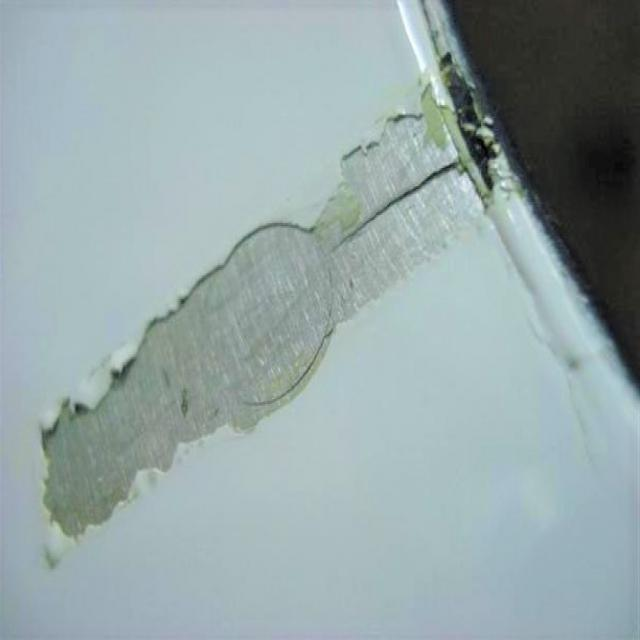crack: (326, 134, 514, 264)
